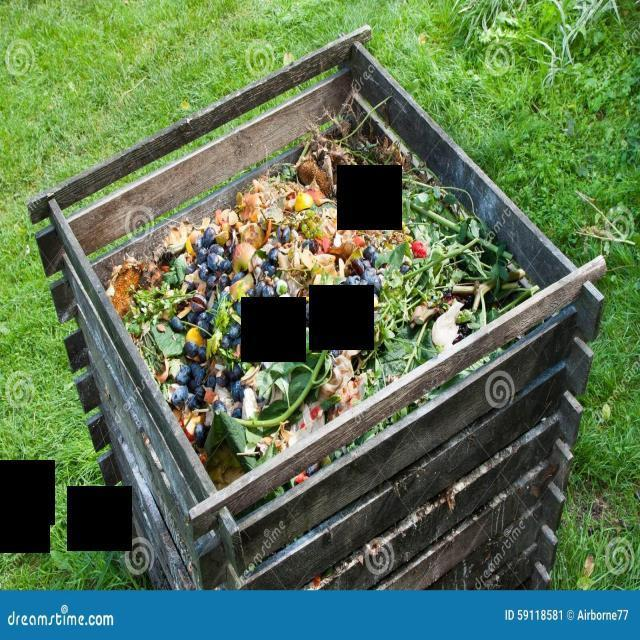Garbage: (98, 93, 541, 485)
